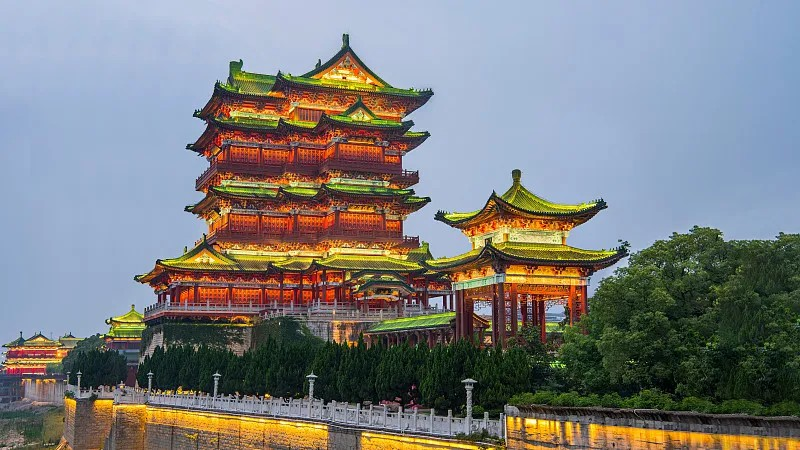Teng: (133, 34, 433, 307)
